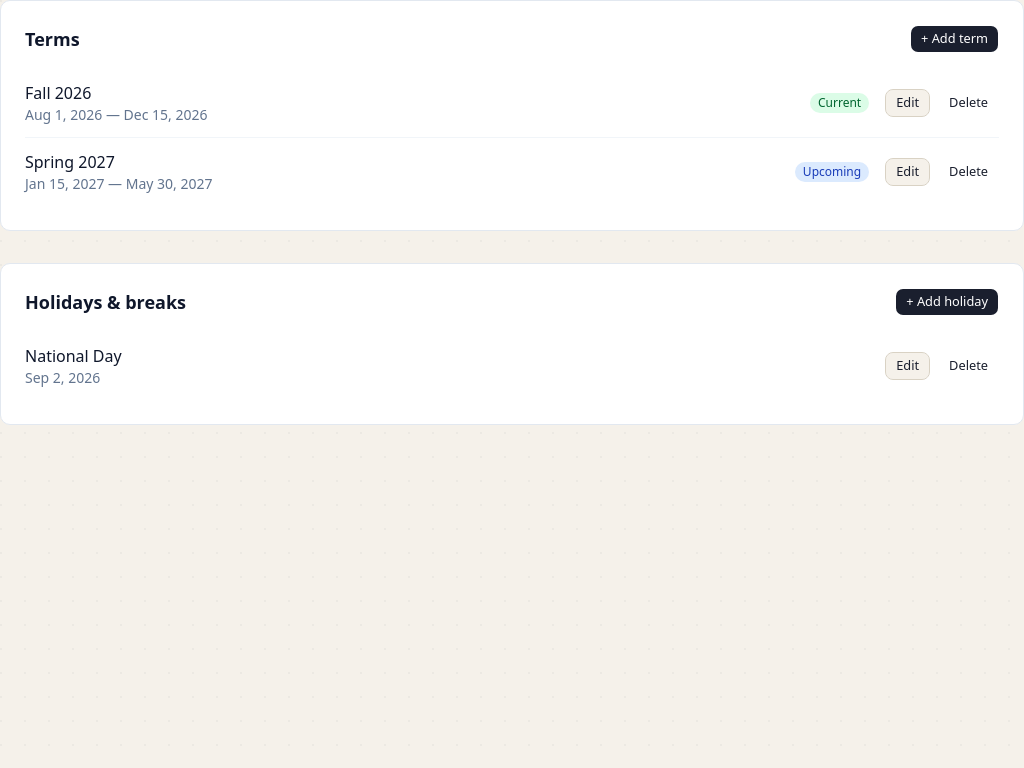
Test case: TermCalendarTab — AC5 CRUD via shadcn Dialog › Edit term dialog pre-fills current values
This screenshot has width=1024, height=768.
Expected: the text "Fall 2026" is shown, [25,82,91,104]
Click the button "Edit" in the row of "Fall 2026". click: (908, 103)
box: [885,89,930,117]
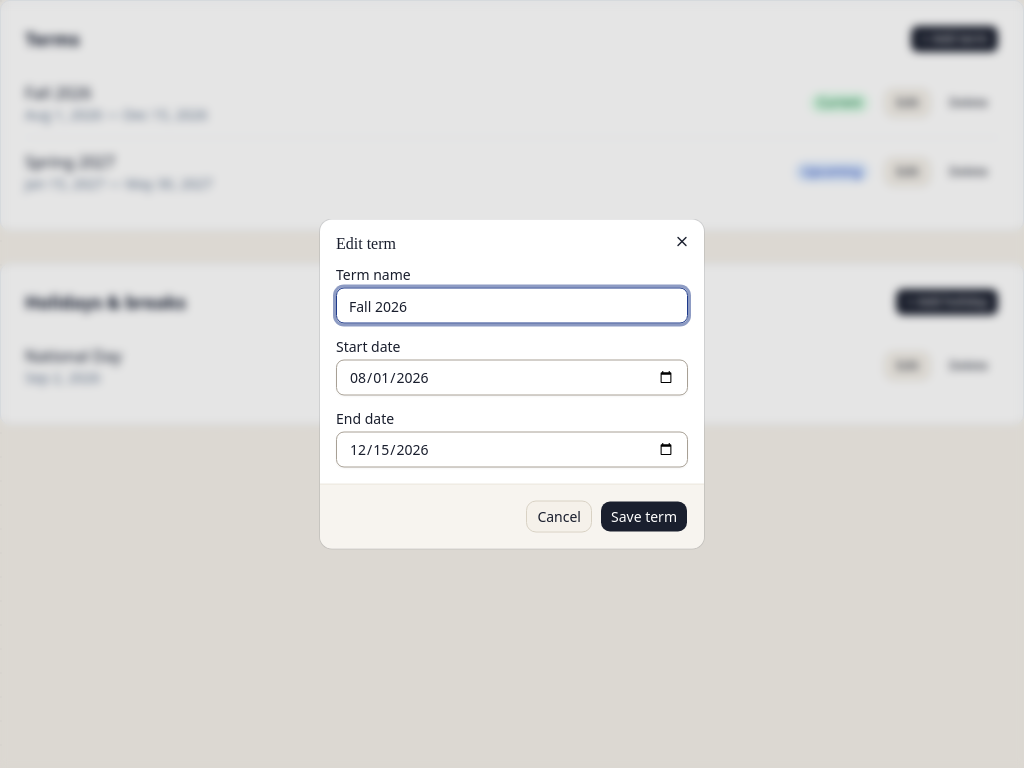
Expected: the field labelled "Term name" holds "Fall 2026", [336,288,688,324]
